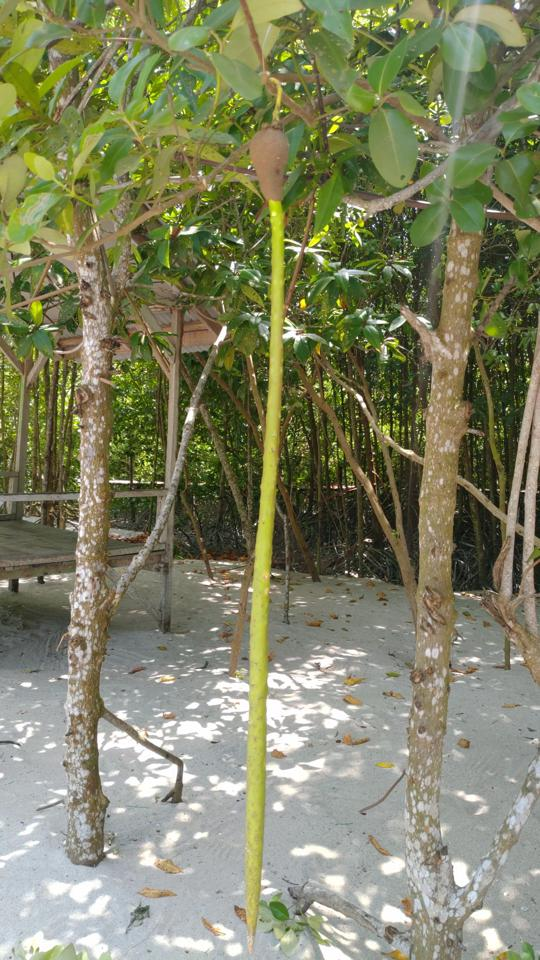mentah: (231, 104, 301, 943)
